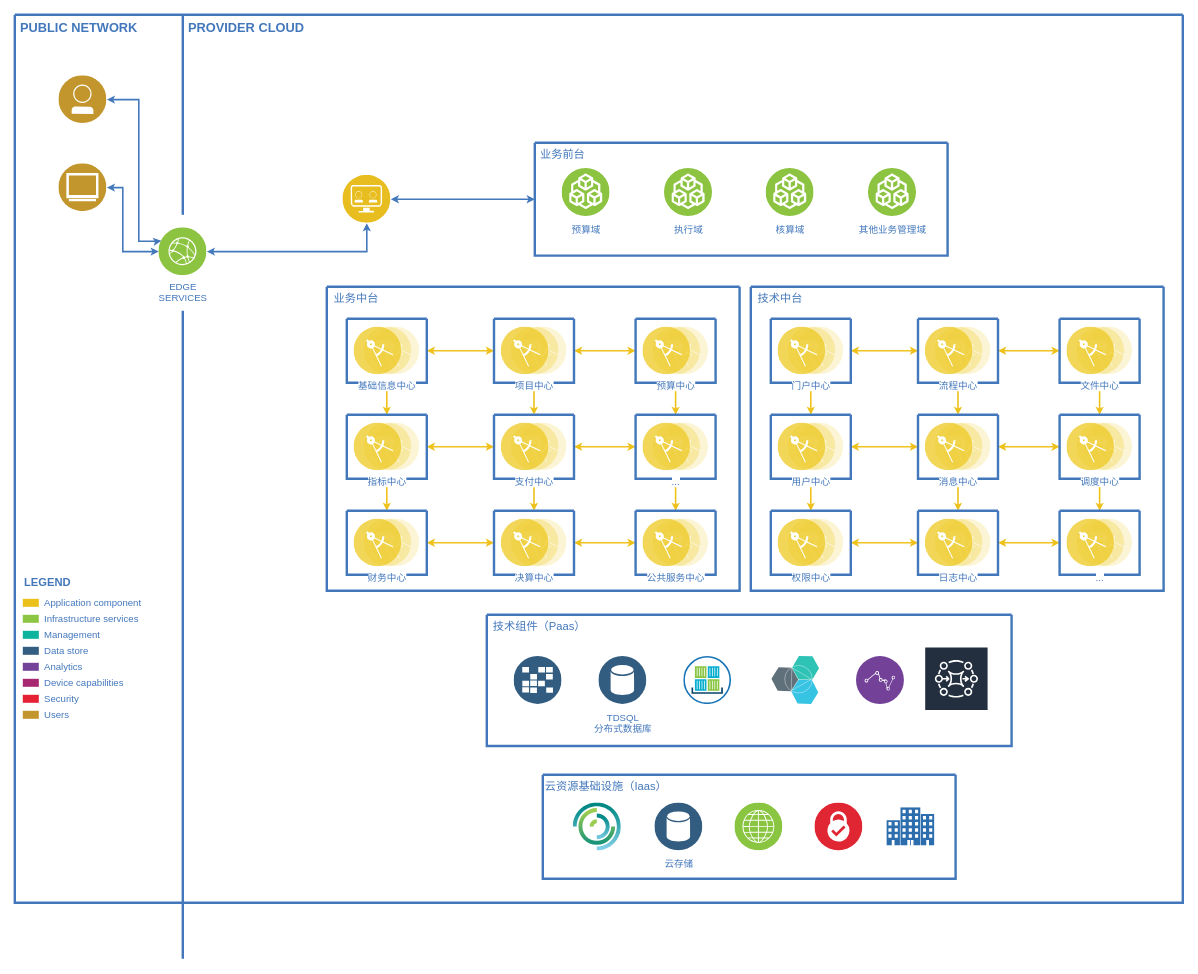
The diagram is 1198 pixels wide and 974 high, and some of its shapes have lost their labels. Here are the shapes that lost their labels. From the top down, the centre of each, then its label:
point (82, 99): USER
point (82, 187): DEVICES
point (366, 199): 统一门户
point (538, 680): TRedis 分布式缓存
point (707, 680): TKE-容器服务 服务治理
point (795, 680): TSF-腾讯微服务平台 微服务开发框架
point (880, 680): 多数据源同步
point (956, 694): CMQ-消息中间件
point (597, 826): 云计算
point (758, 826): 云网络
point (838, 826): 云安全
point (910, 826): 云基础设施
